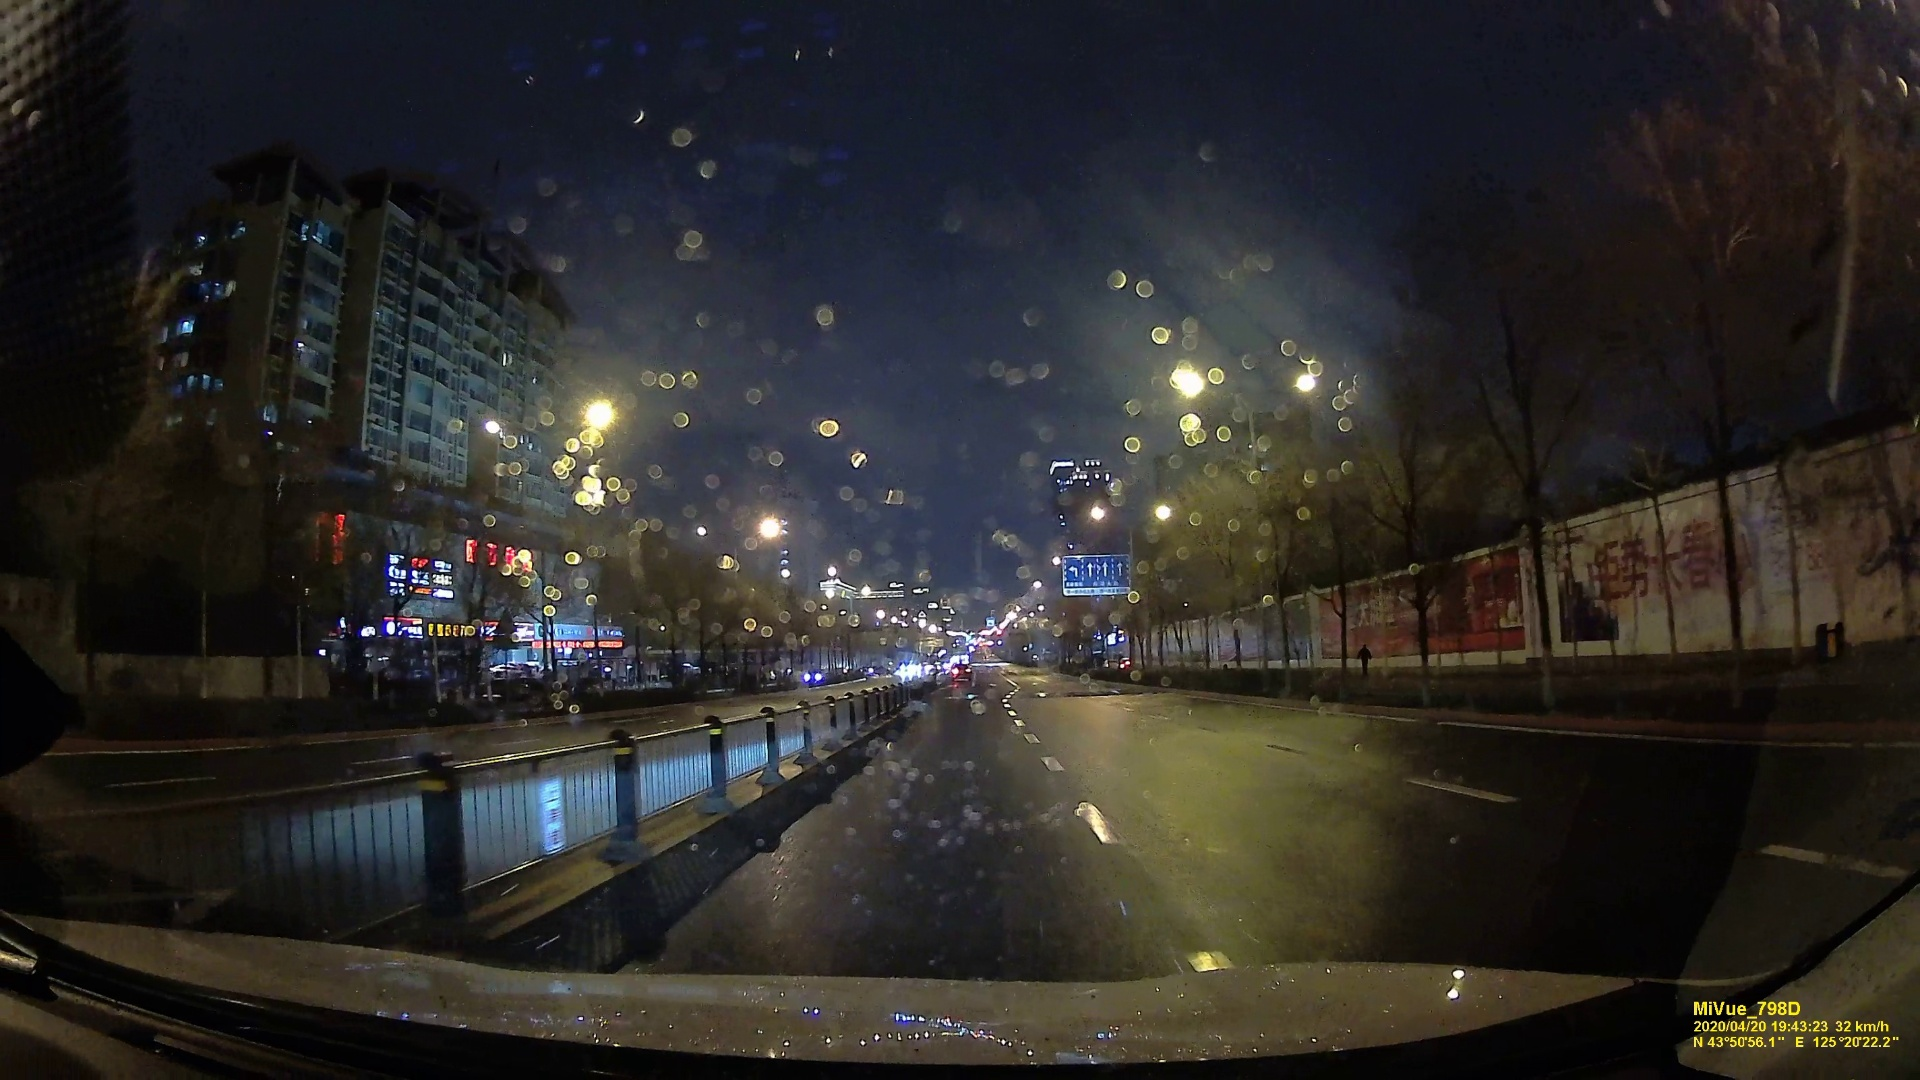traffic_sign: (1062, 556, 1133, 593)
vehicle: (802, 669, 825, 684), (952, 665, 972, 680)
